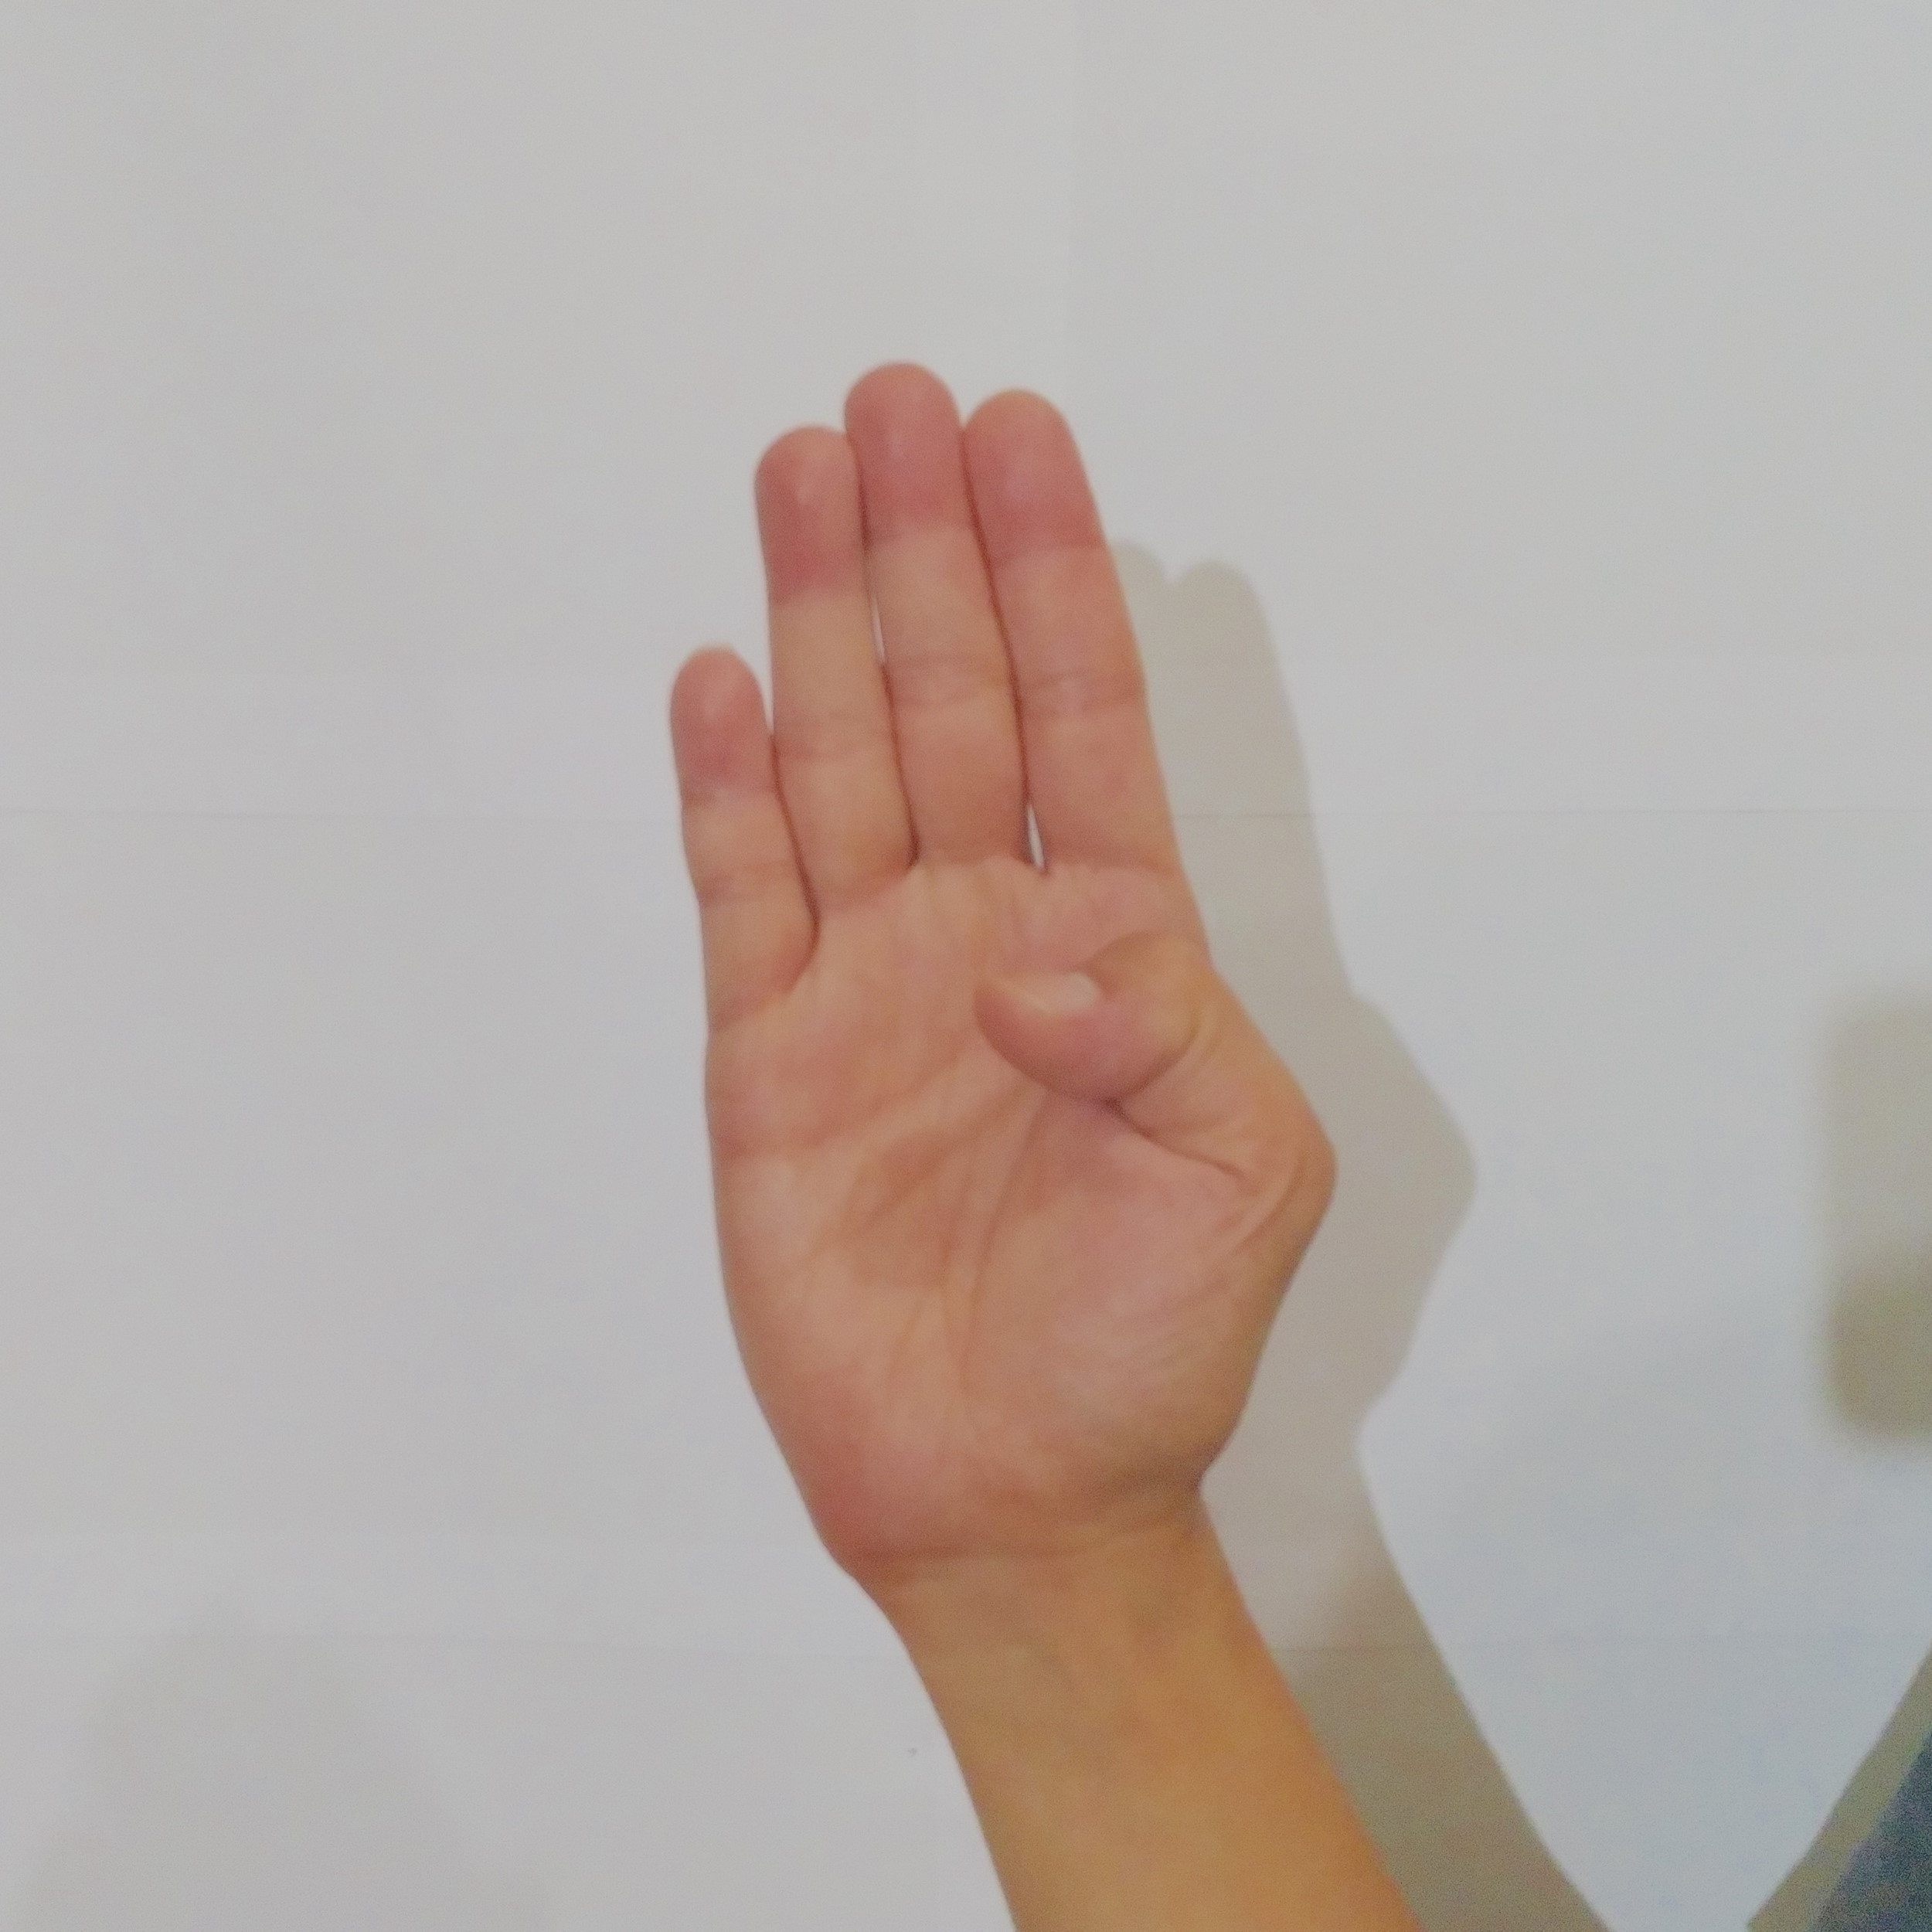B: (646, 333, 1352, 1545)
